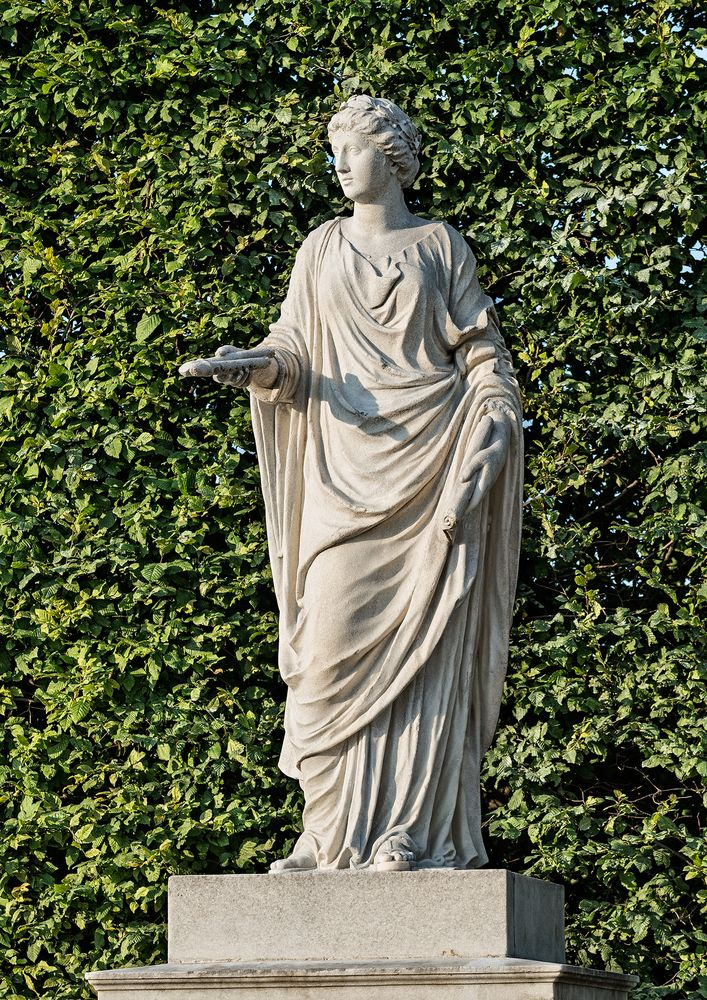person-like: (173, 87, 540, 875)
